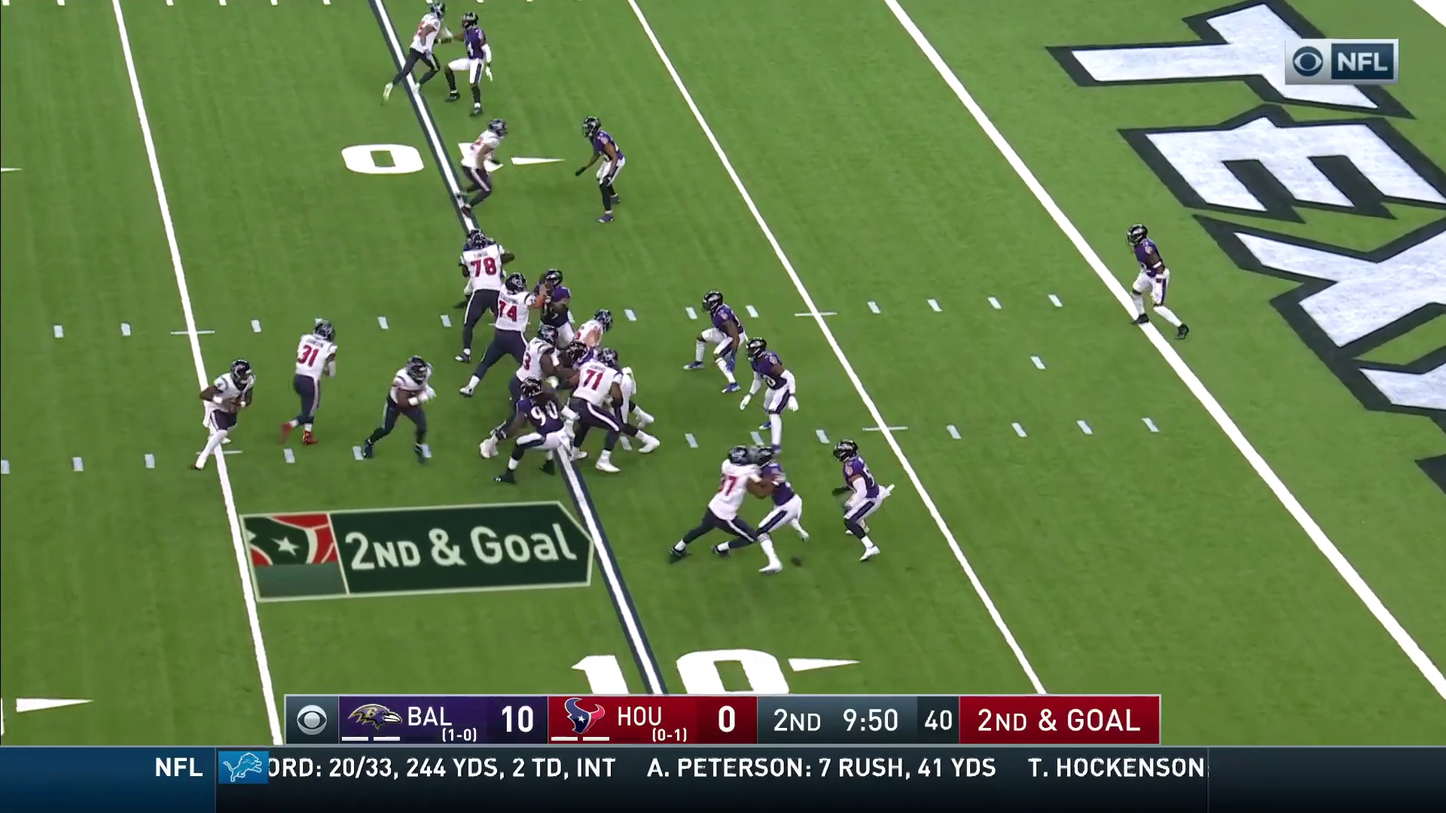Player: (281, 317, 336, 444), (471, 271, 529, 390), (750, 453, 804, 574), (195, 358, 254, 468), (571, 353, 625, 469), (834, 439, 884, 559), (746, 336, 797, 449), (512, 329, 567, 433), (380, 356, 433, 461), (707, 447, 759, 548), (588, 359, 645, 447), (696, 290, 745, 391), (514, 375, 563, 464), (460, 118, 506, 199), (461, 227, 502, 304), (496, 272, 529, 367), (537, 268, 573, 353)
